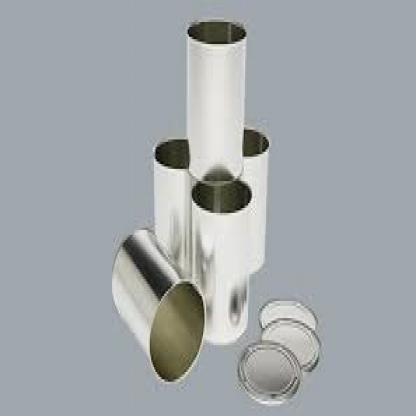METAL: (109, 225, 203, 382), (189, 178, 251, 348), (185, 17, 245, 184), (153, 137, 189, 286), (236, 340, 300, 401), (243, 130, 268, 274), (258, 316, 319, 370), (258, 298, 315, 338)
